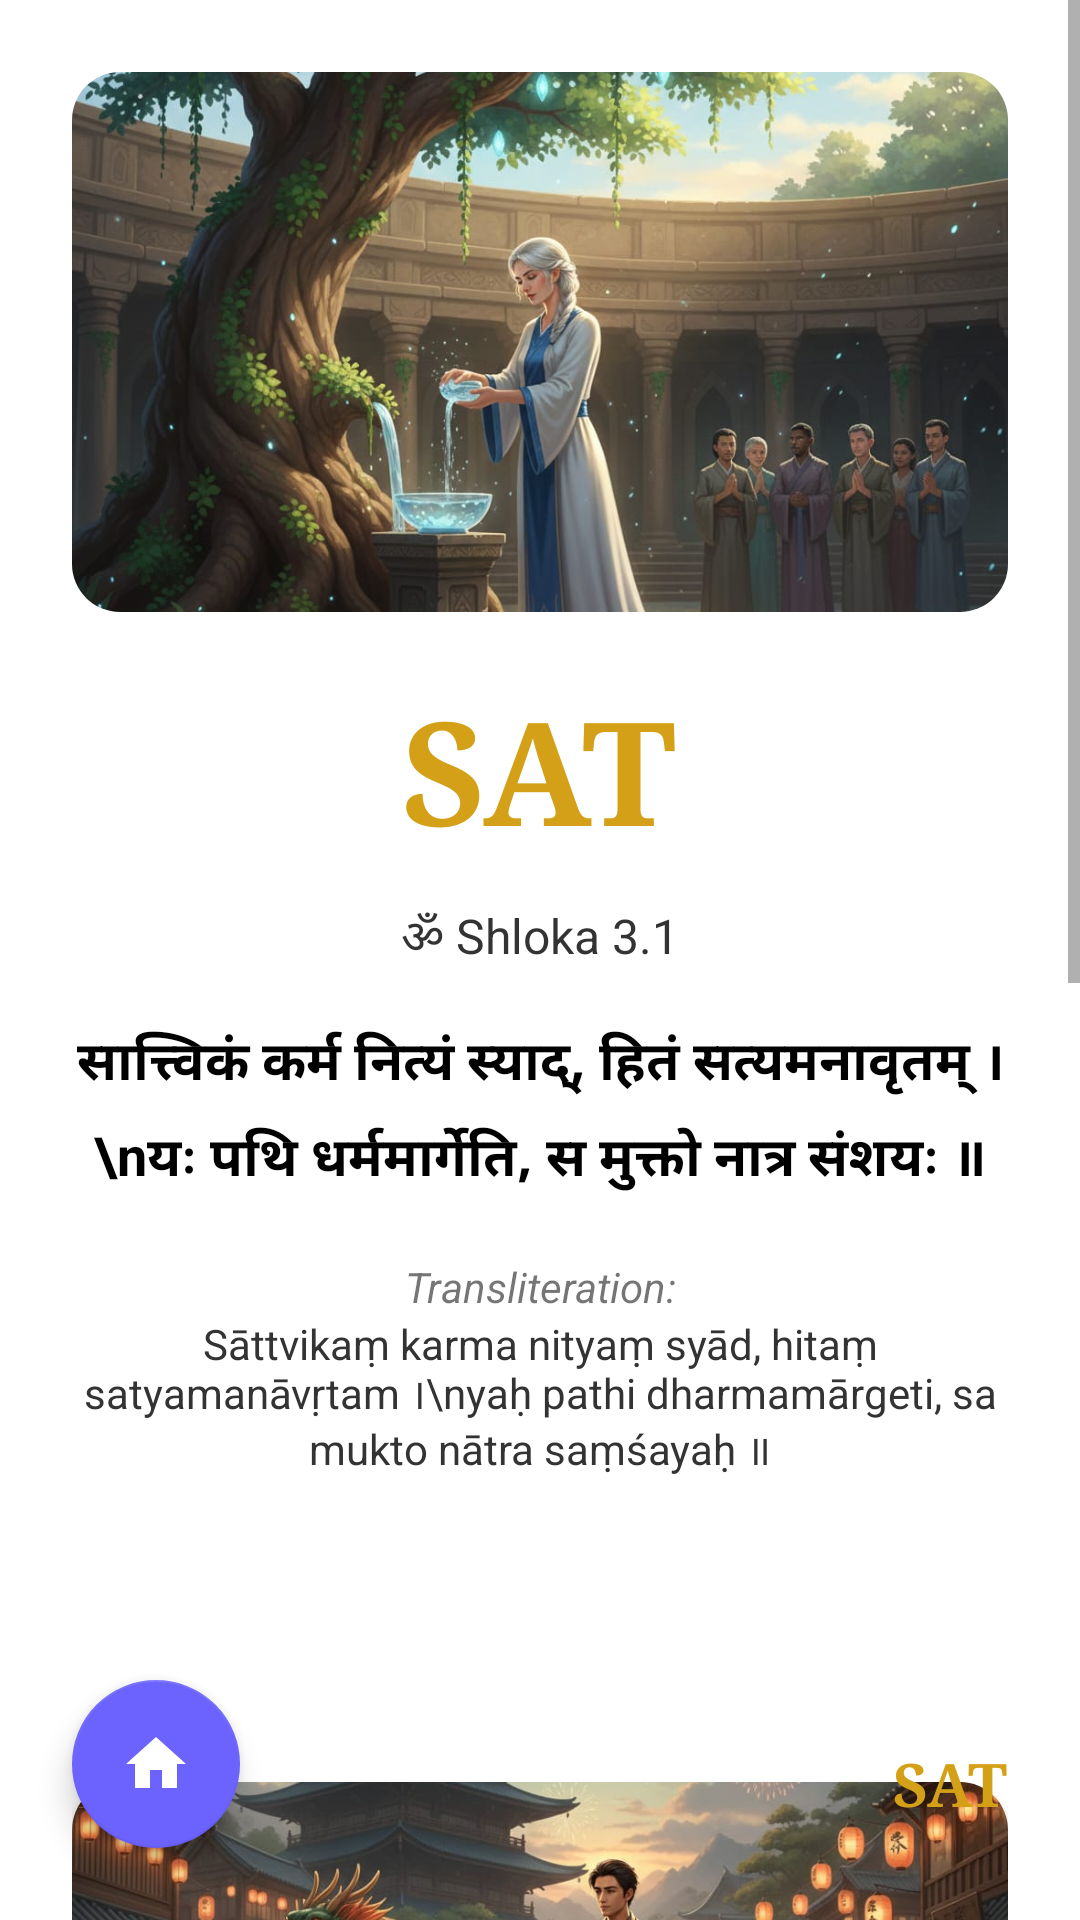

Icons on this 1080px×1920px Android screen, each with its box as {"left": x1, "top": y1, "right": x2, "bottom": y2}:
home: {"left": 72, "top": 1680, "right": 240, "bottom": 1848}
